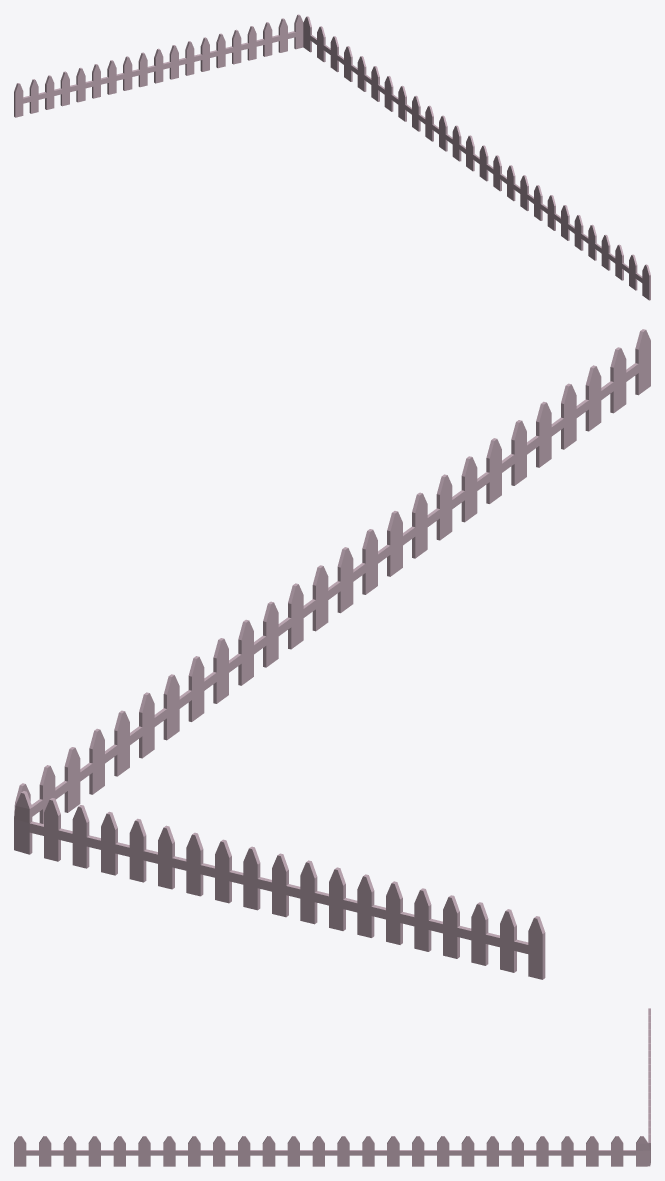
Rendered from fence.obj.
3 renders of one model, top to bottom at view 1: azimuth 30°, elevation 25°; view 2: azimuth 150°, elevation 25°; view 3: azimuth 270°, elevation 25°, orthographic. The views are drawn at different scales.
Parts seen in each view (by area): view 1: fence; view 2: fence; view 3: fence.
Part boxes in pixels (<box>): fence: <box>14,14,650,300</box>; fence: <box>14,329,650,979</box>; fence: <box>14,1008,650,1166</box>.
Size of the model in its own units: 1.61 by 0.1731 by 3.33.
